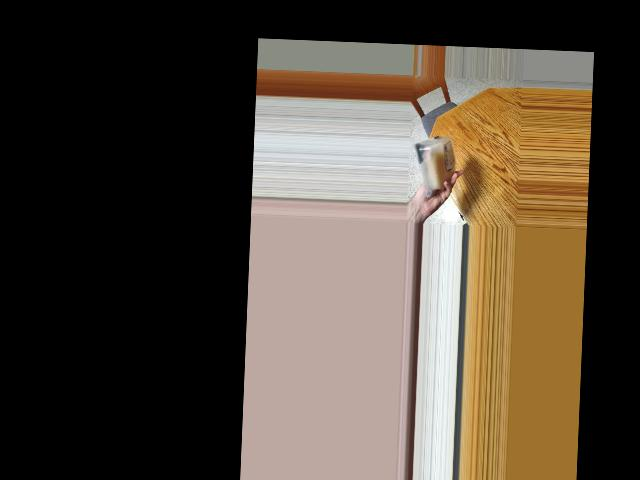cheese: (414, 133, 459, 192)
